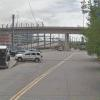Bridge: (2, 18, 88, 41)
